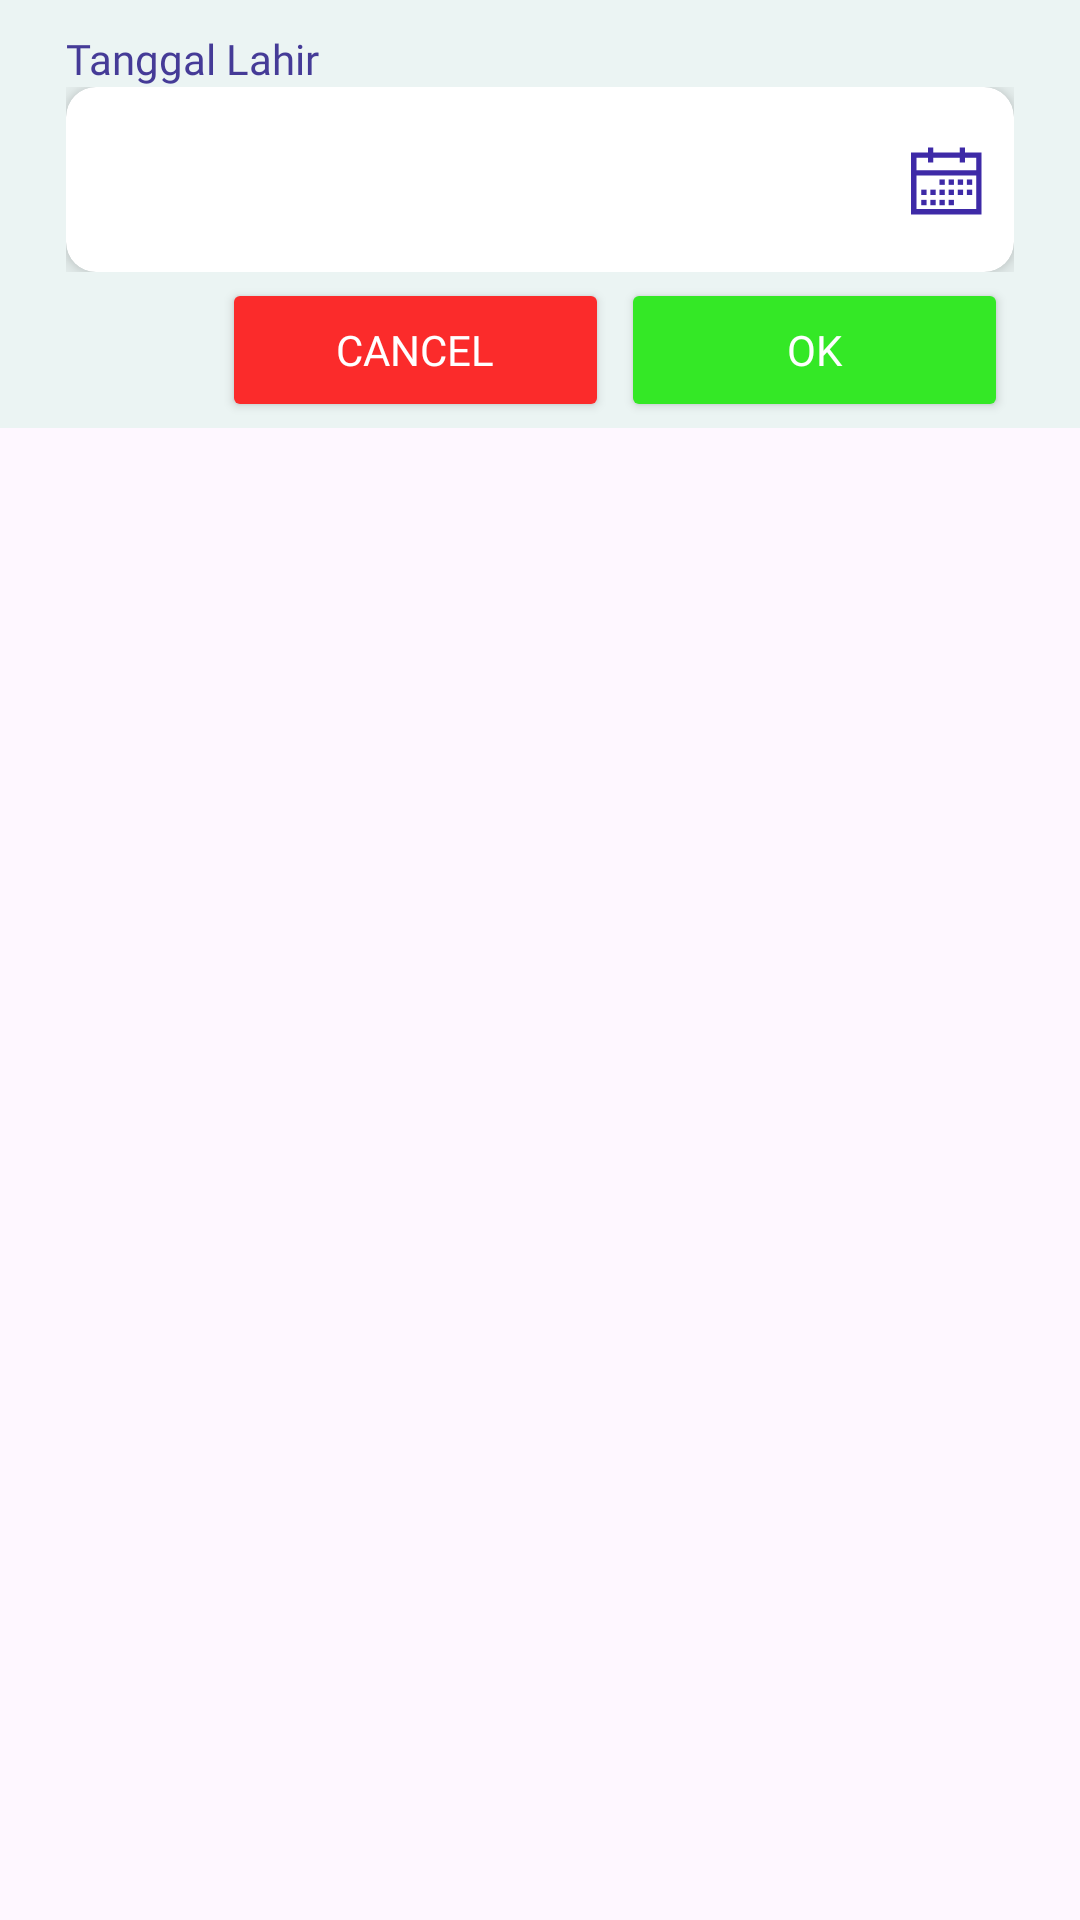

Icons on this 1080×1920 Android screen, each with its box as (x1, y1, x2, y2):
Calendar Icon: (911, 147, 982, 215)
